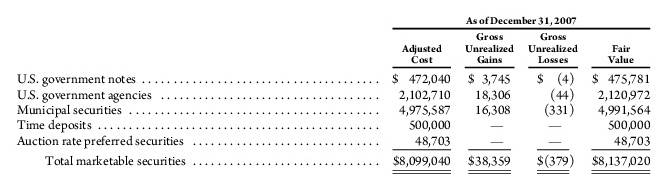table: (0, 0, 668, 196)
